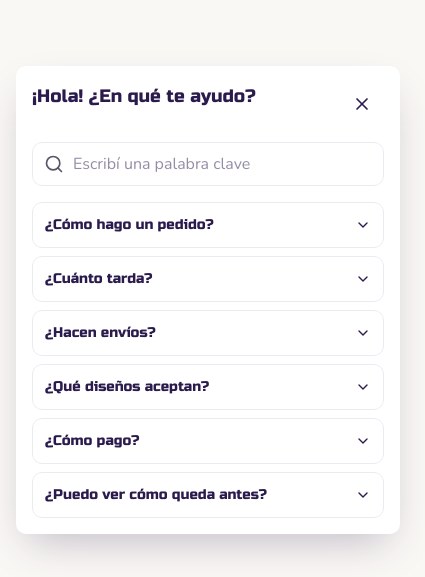
Scenario: PanelAsistente › muestra la respuesta al activar una pregunta
Click the button "¿Cómo hago un pedido?": (208,225) left=33, top=203, right=383, bottom=247
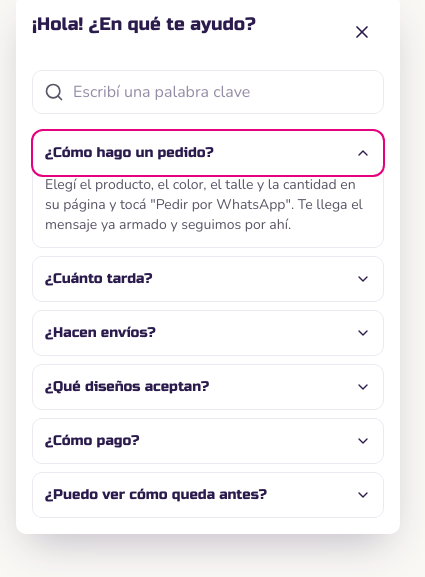
Expected: the text "Elegí el producto, el color, el talle y la cantidad en su página y tocá \"Pedir por WhatsApp\". Te llega el mensaje ya arm" is shown, left=45, top=175, right=363, bottom=234
Expected: the button "¿Cómo hago un pedido?" is expanded, left=33, top=131, right=383, bottom=175
